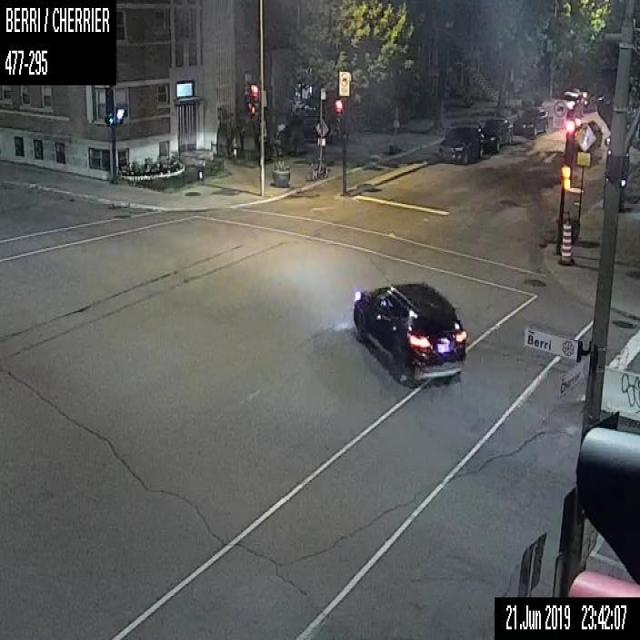construction: (557, 216, 574, 265)
vehicle: (352, 281, 467, 389), (438, 124, 484, 162), (477, 116, 512, 150), (513, 105, 547, 137), (562, 90, 582, 118), (582, 90, 596, 111)
